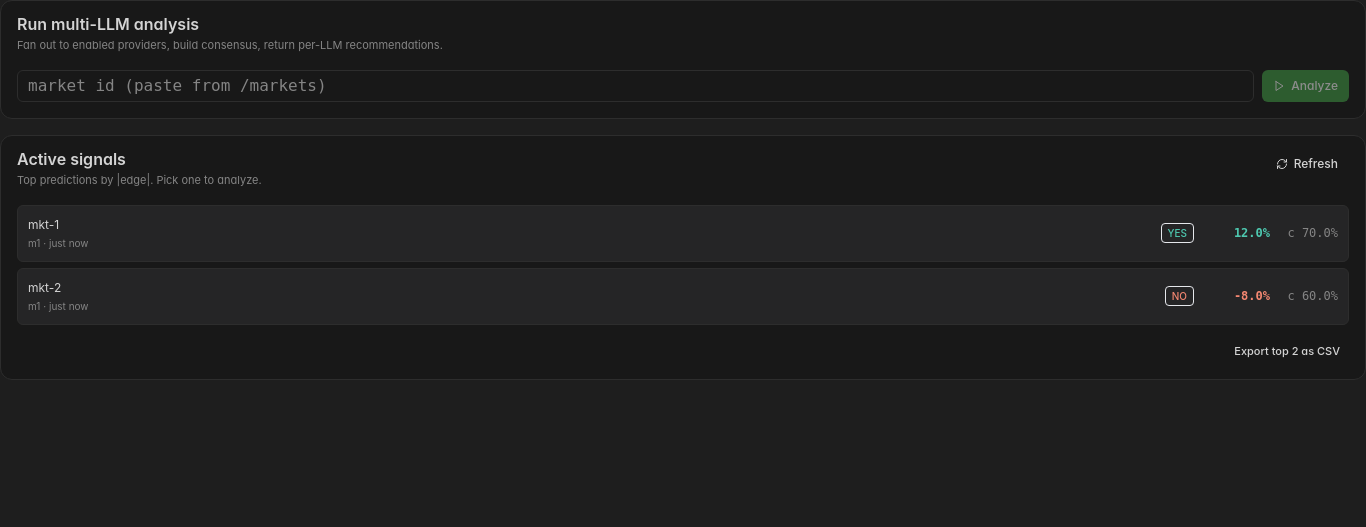
Test case: Analysis (branches — v0.73b) › result card side=null → em-dash + Sparkles icon
Type "mkt-1" into the field with placeholder "market id (paste from /markets)" at point(636, 86), box [17,70,1254,102]
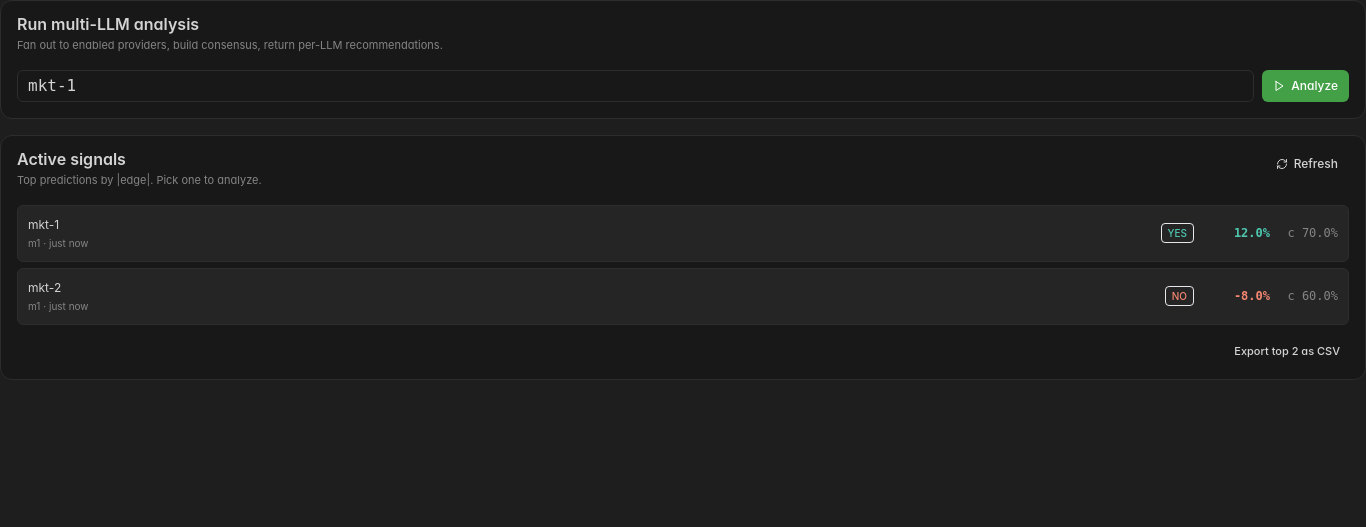
Click the button "Analyze" at point(1306, 86), box [1262,70,1349,102]
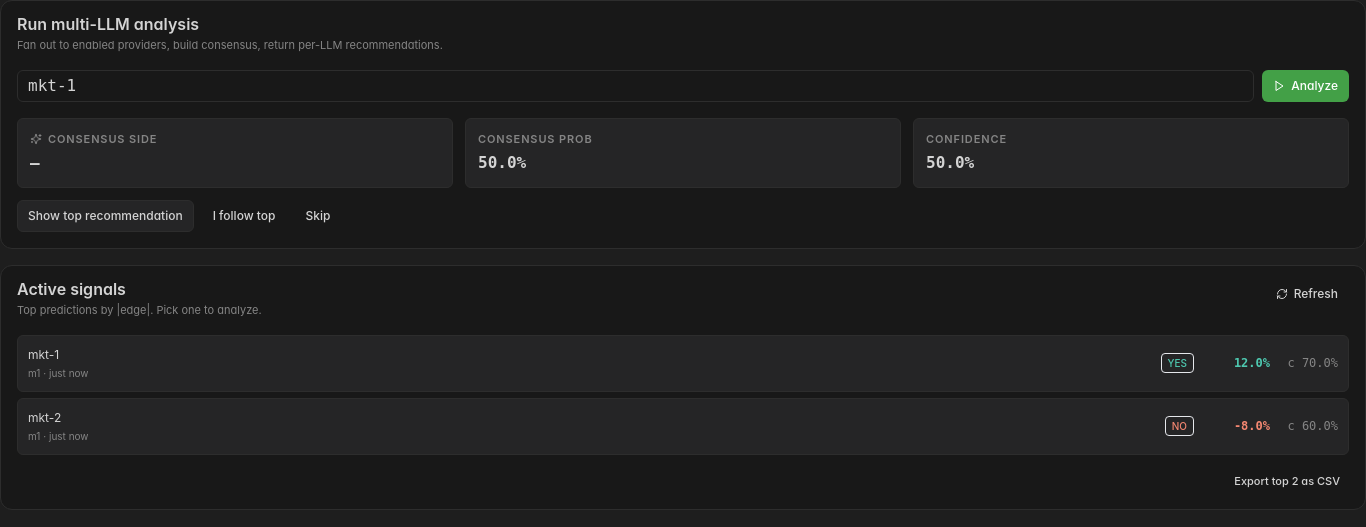
expect the text "—" is shown: met, box [30,153,40,172]
